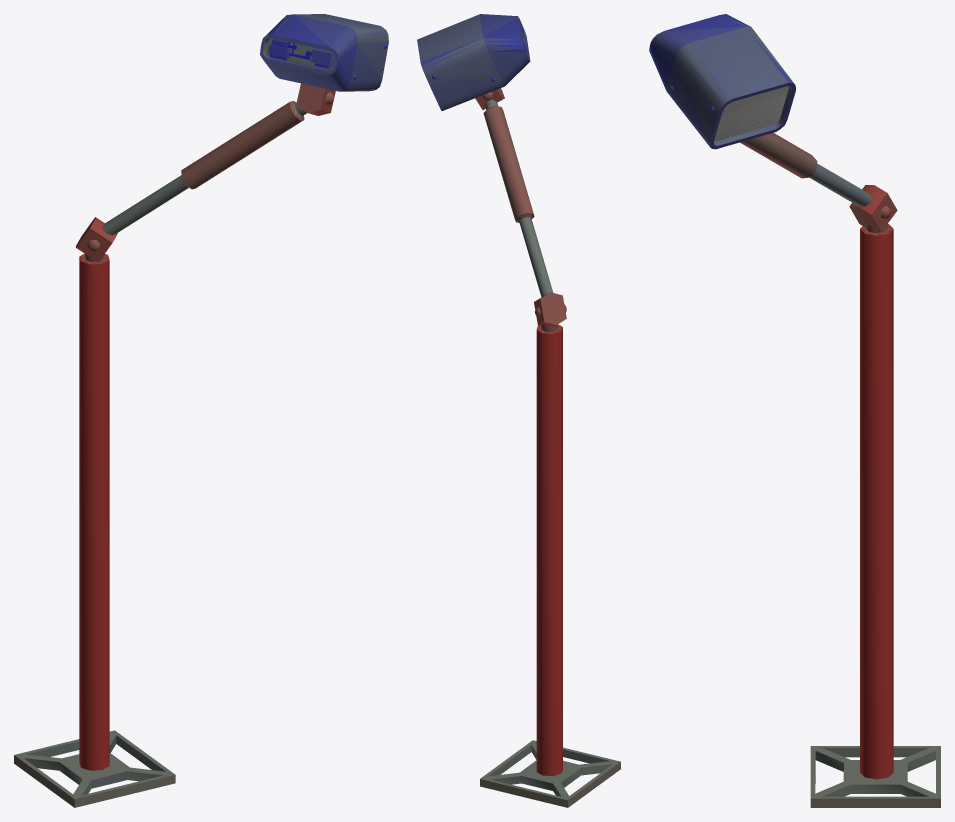
The model's file is spotlight_freestanding_scanroom.dae.
3 renders of one model, left to right at view 1: azimuth 30°, elevation 25°; view 2: azimuth 150°, elevation 25°; view 3: azimuth 270°, elevation 25°, orthographic. The views are drawn at different scales.
Visible parts, largest first — view 1: scan_screen1; view 2: scan_screen1; view 3: scan_screen1, light.
Boxes of the visible parts, x1,y1,x2,y2 form: scan_screen1: (14, 14, 388, 807); scan_screen1: (417, 14, 620, 807); scan_screen1: (649, 14, 940, 807); light: (714, 86, 788, 141).
Bounding box in the file's own units: 0.5888 × 1.59 × 0.5081.
